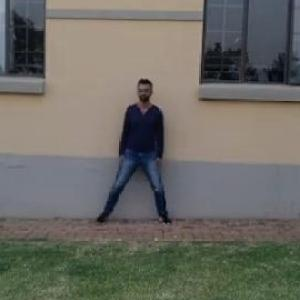follow: (120, 76, 164, 228)
